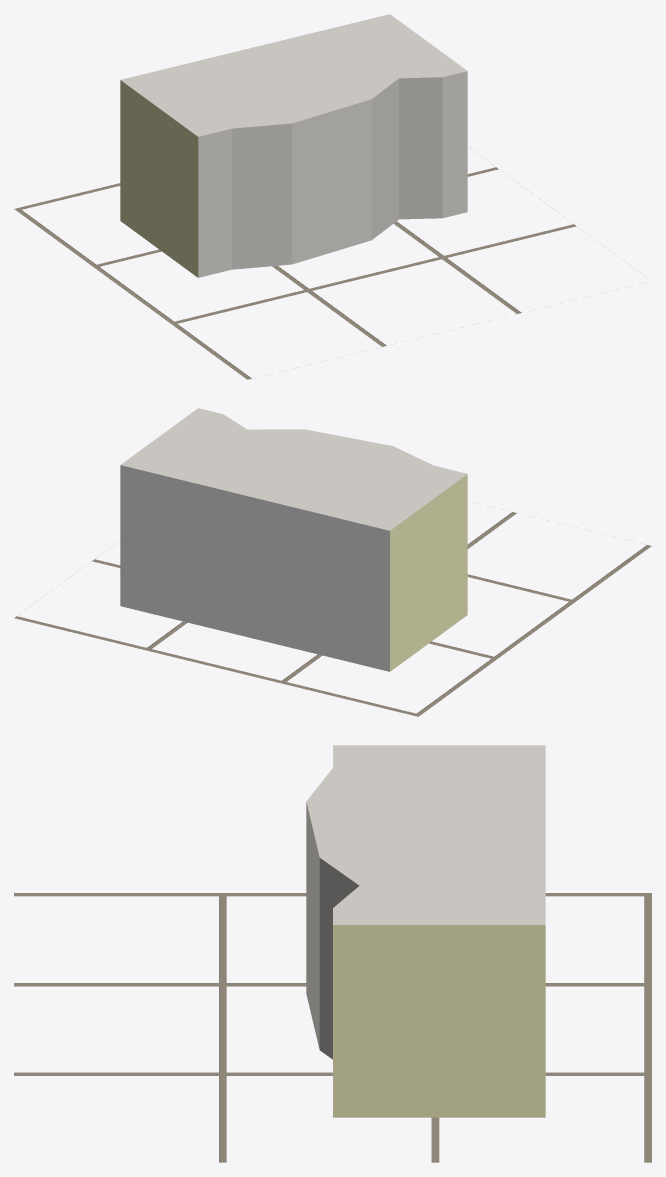
Rendered from Cracked_Straight_2x2_1_Mid.glb.
3 renders of one model, top to bottom at view 1: azimuth 30°, elevation 25°; view 2: azimuth 150°, elevation 25°; view 3: azimuth 270°, elevation 25°, orthographic. The views are drawn at different scales.
Parts seen in each view (by area): view 1: Cracked_Straight_2x2_1_Mid, Floor; view 2: Cracked_Straight_2x2_1_Mid, Floor; view 3: Cracked_Straight_2x2_1_Mid, Floor.
Boxes of the visible parts, x1,y1,x2,y2 form: Cracked_Straight_2x2_1_Mid: [120, 14, 467, 277]; Floor: [14, 167, 576, 379]; Cracked_Straight_2x2_1_Mid: [120, 408, 467, 671]; Floor: [14, 512, 651, 716]; Cracked_Straight_2x2_1_Mid: [306, 745, 545, 1117]; Floor: [14, 893, 651, 1162].
Bounding box in the file's own units: 300 × 100 × 300.
Materials: 4 (1 with a texture image).
